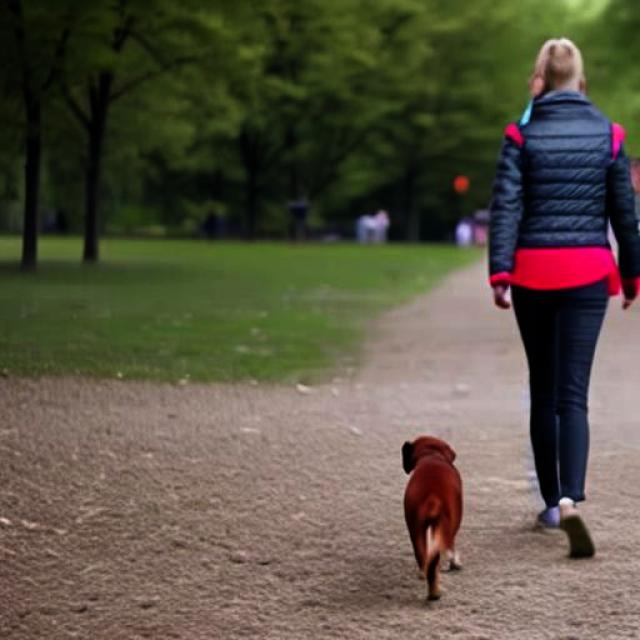Unleashed_Dog: (401, 269, 584, 603)
